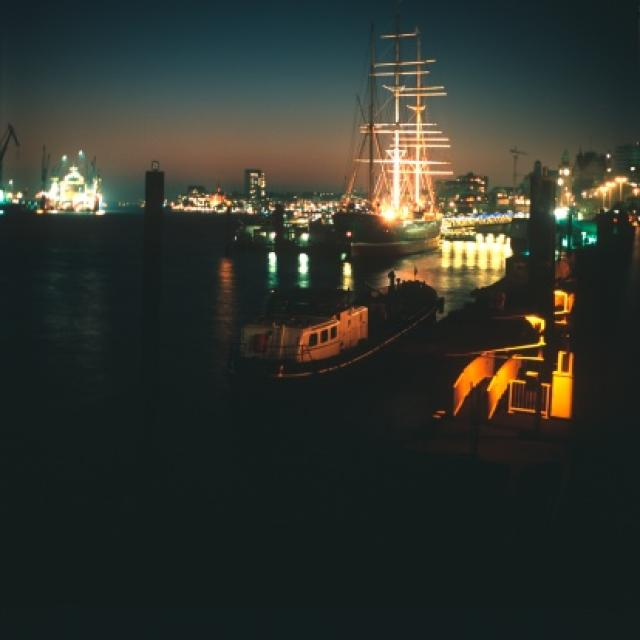Boat: (239, 271, 491, 383), (308, 173, 507, 262), (211, 187, 336, 252)
